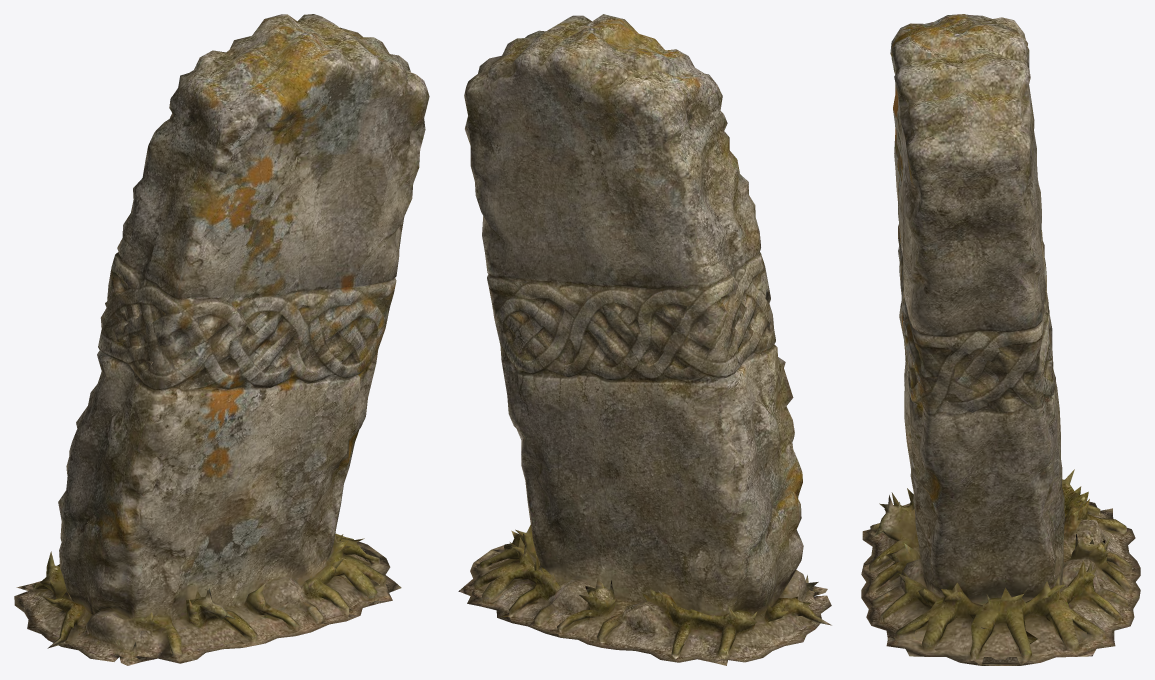
The model's file is kit_lw_stone_b.glb.
The picture shows the model from 3 angles, left to right: view 1: azimuth 30°, elevation 25°; view 2: azimuth 150°, elevation 25°; view 3: azimuth 270°, elevation 25°; orthographic projection. The views are drawn at different scales.
Parts seen in each view (by area): view 1: kit_lw_stone_b; view 2: kit_lw_stone_b; view 3: kit_lw_stone_b.
Part boxes in pixels (box(x1,y1,x2,y2)): kit_lw_stone_b: box(14, 14, 429, 665); kit_lw_stone_b: box(458, 14, 831, 665); kit_lw_stone_b: box(861, 14, 1140, 665).
Bounding box in the file's own units: 1.1 × 1.6 × 0.692.
1 material, 1 textured.
